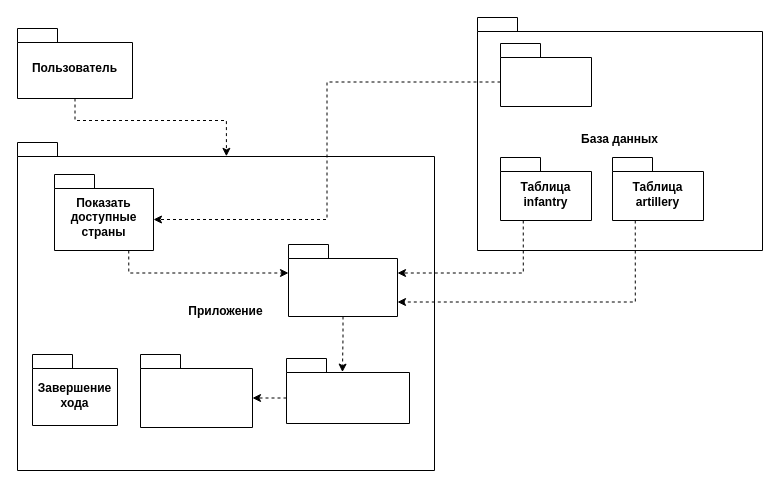
This 780x488 diagram has some shape labels left out. Each missing label, with the centre of its shape:
выбрать отряд: (348,391)
Выполнить действие с отрядом: (196,391)
Создать армии: (343,280)
Таблица countries: (546,74)
